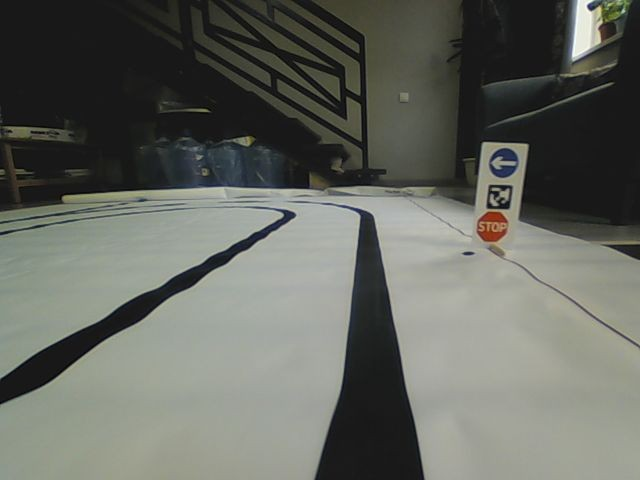Stop: (475, 210, 509, 243)
